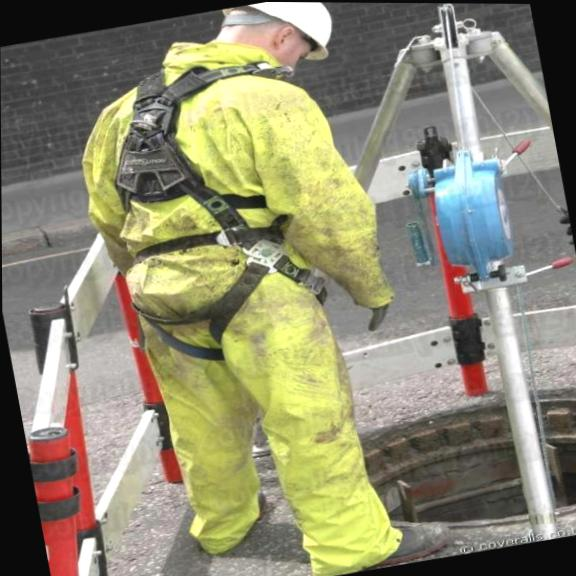no_safety_vest: (69, 46, 394, 368)
